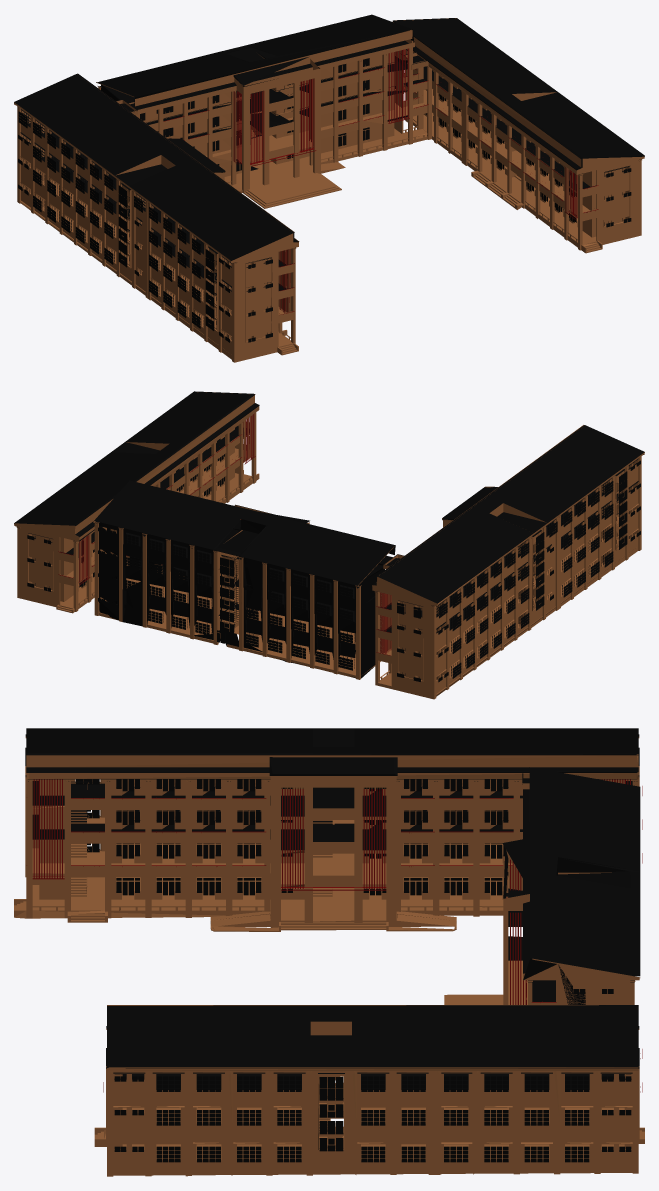
File: admin-block.glb
3 renders of one model, top to bottom at view 1: azimuth 30°, elevation 25°; view 2: azimuth 150°, elevation 25°; view 3: azimuth 270°, elevation 25°, orthographic. The views are drawn at different scales.
Visible parts, largest first — view 1: AdminBlock; view 2: AdminBlock; view 3: AdminBlock.
Boxes of the visible parts, x1,y1,x2,y2 form: AdminBlock: (14, 14, 644, 362); AdminBlock: (14, 391, 644, 699); AdminBlock: (14, 728, 644, 1176).
Bounding box in the file's own units: 69.84 × 17.45 × 61.02.
